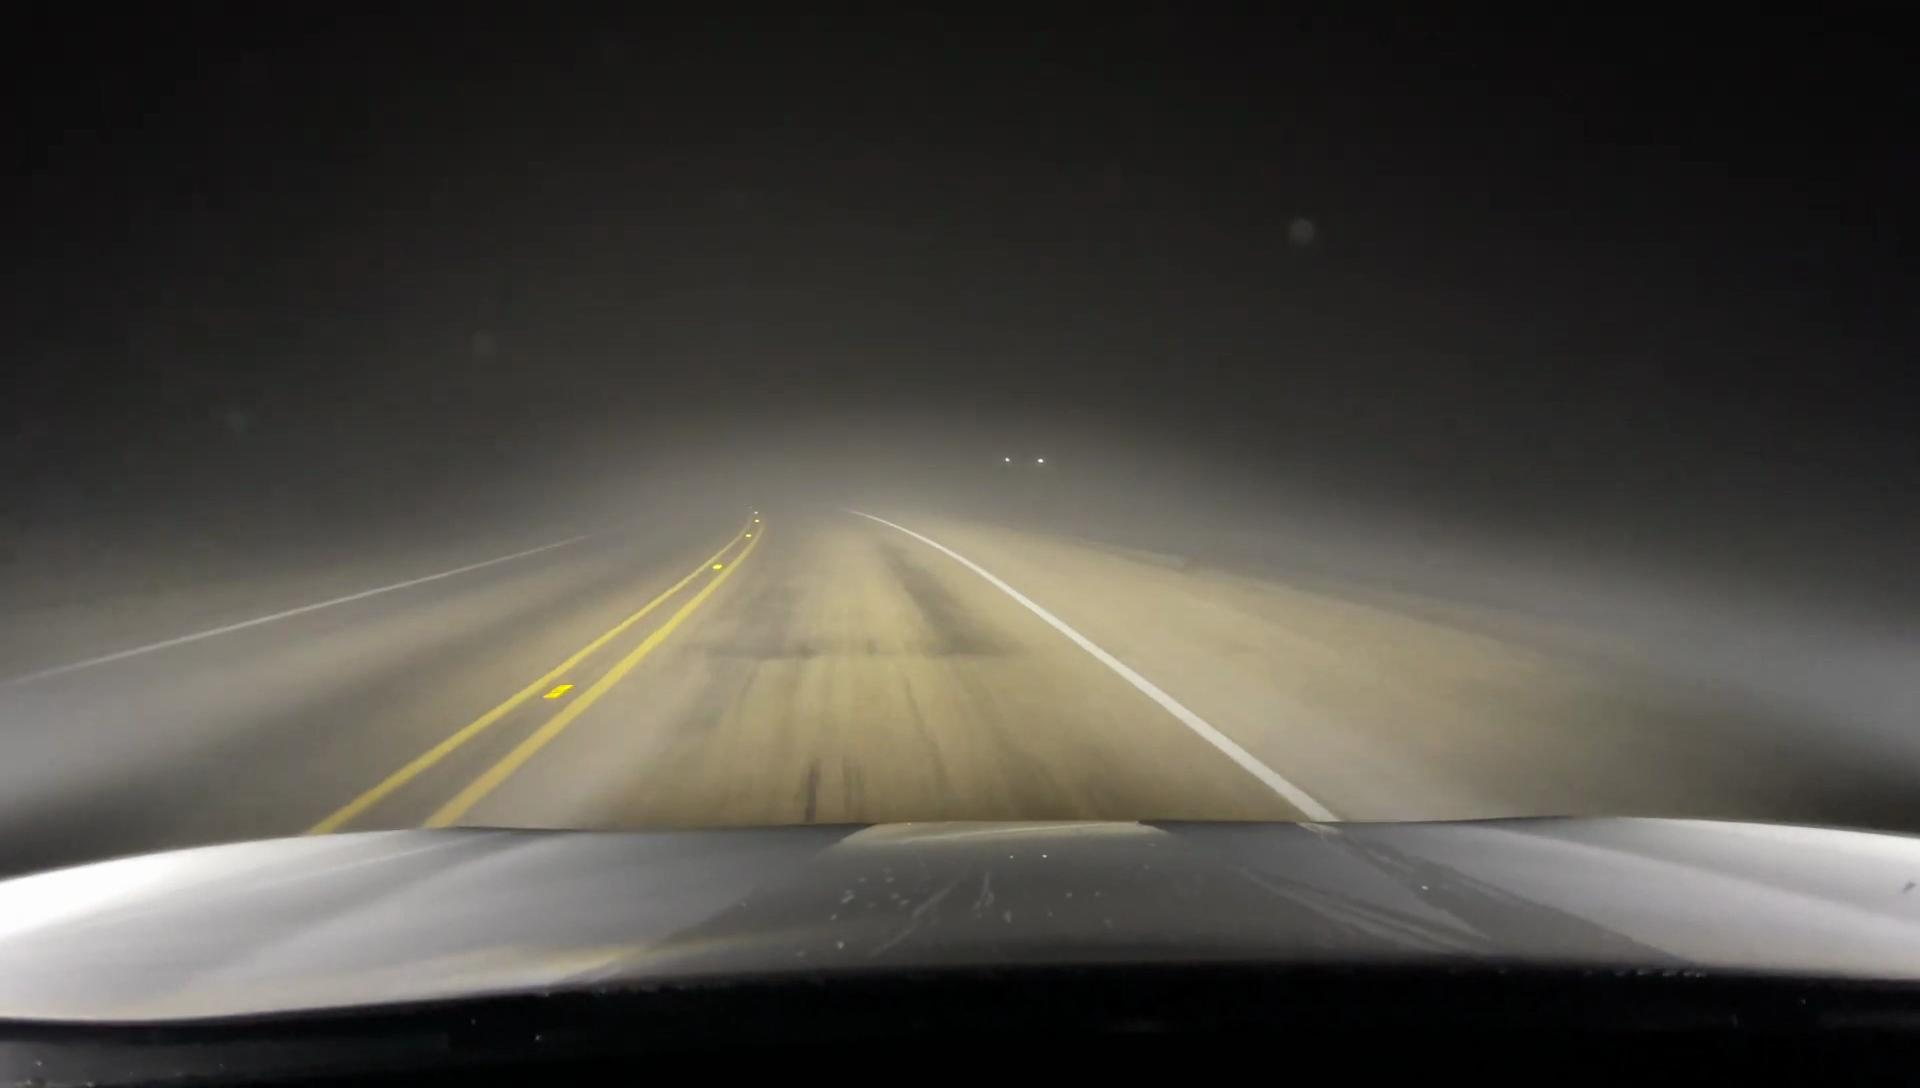road-lanes: (489, 495, 1274, 811)
